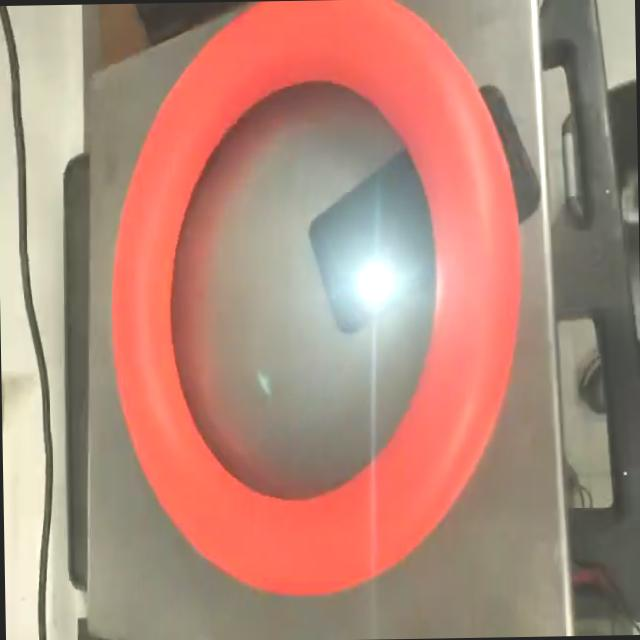note: (102, 0, 531, 610)
